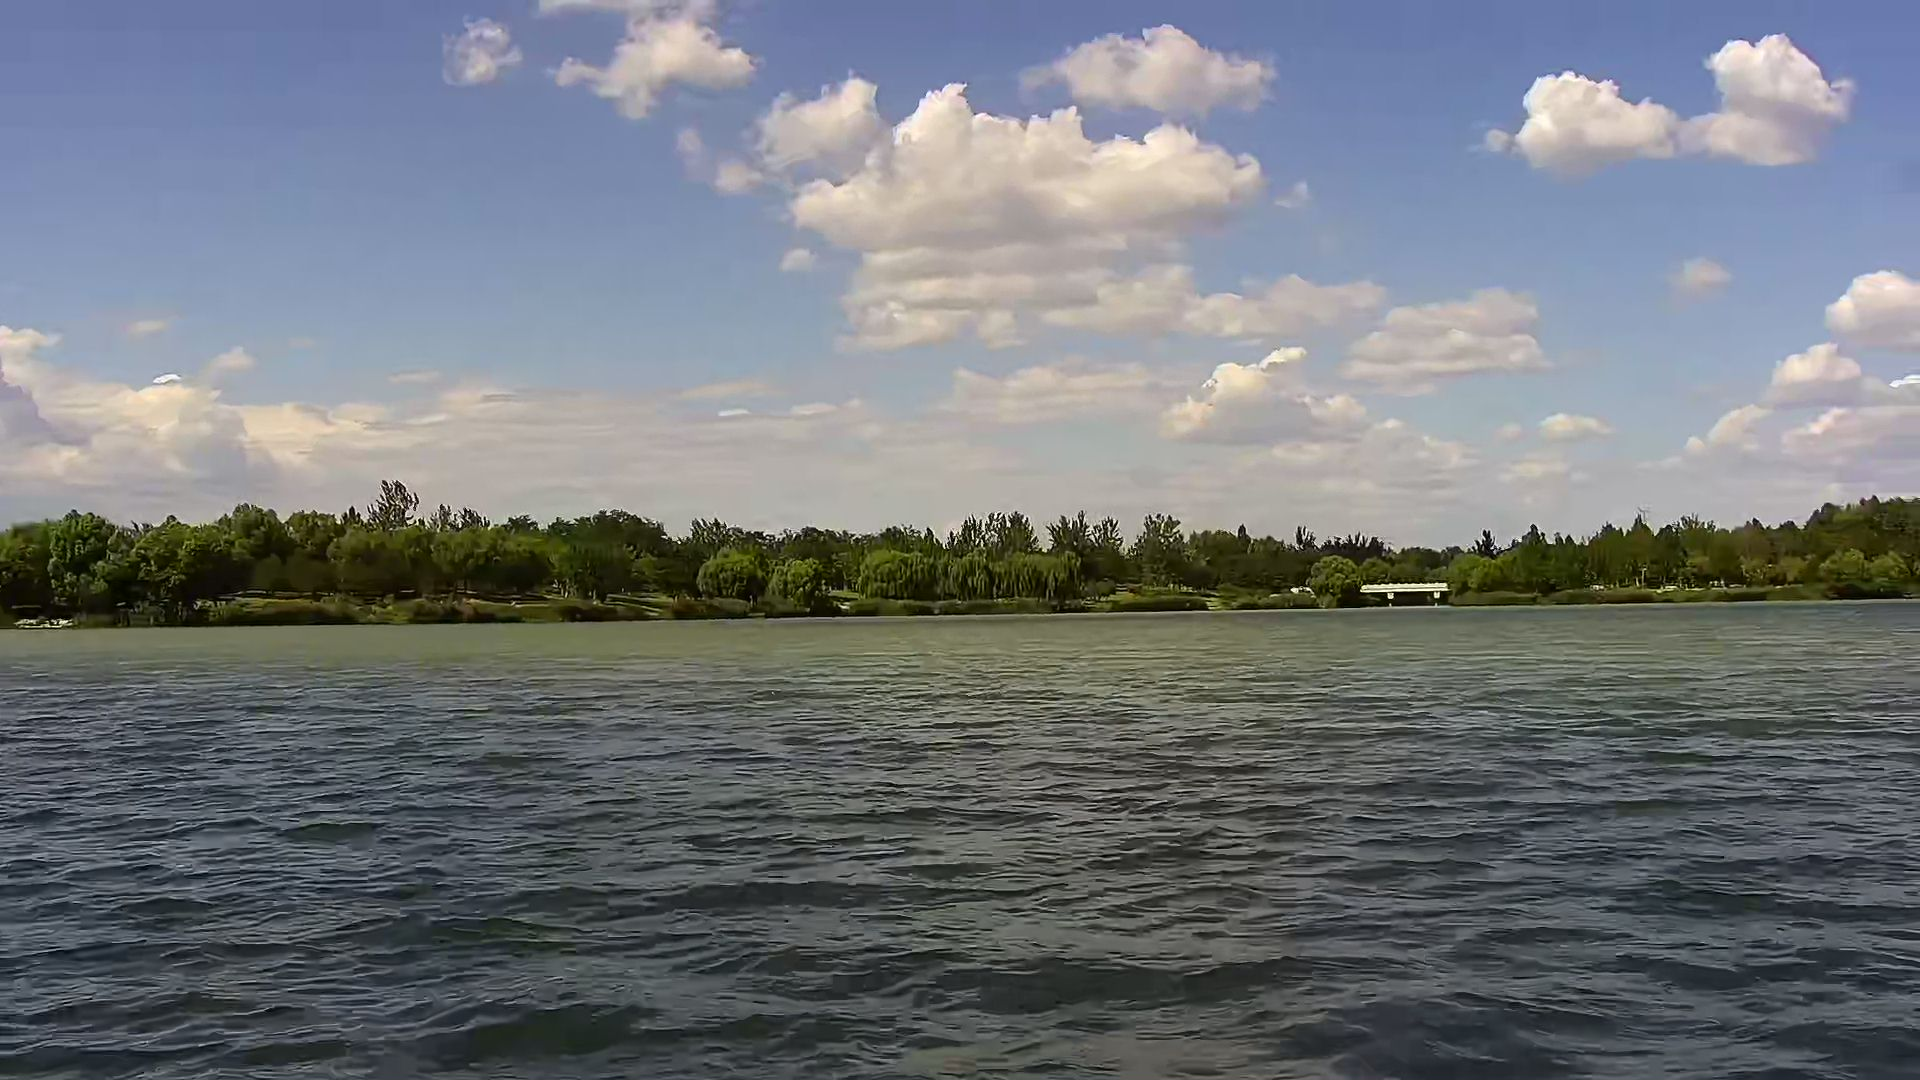bridge: (1357, 580, 1453, 611)
